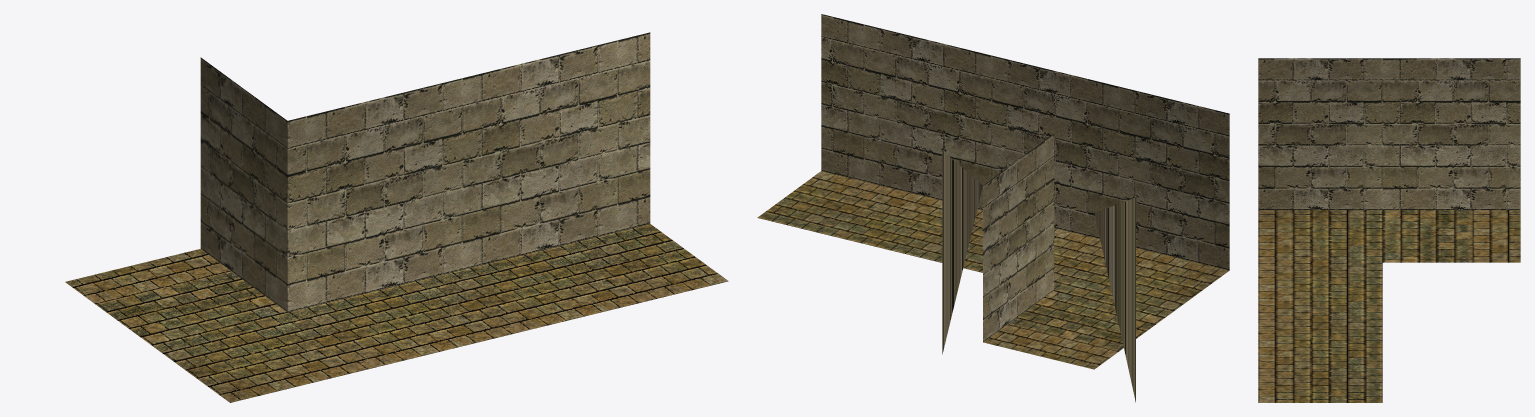
The model's file is M12_Dogleg3.glb.
3 views of the same model, side by side, from view 1: azimuth 30°, elevation 25°; view 2: azimuth 150°, elevation 25°; view 3: azimuth 270°, elevation 25° (orthographic). The views are drawn at different scales.
Visible parts, largest first — view 1: M12_DOGLEG3; view 2: M12_DOGLEG3; view 3: M12_DOGLEG3.
Boxes of the visible parts, left/top/right/bottom form: M12_DOGLEG3: left=65, top=32, right=728, bottom=402; M12_DOGLEG3: left=757, top=14, right=1229, bottom=402; M12_DOGLEG3: left=1258, top=58, right=1520, bottom=402.
Size of the model in its own units: 8.09 by 3.53 by 4.22.
Materials: 3 (3 with a texture image).
